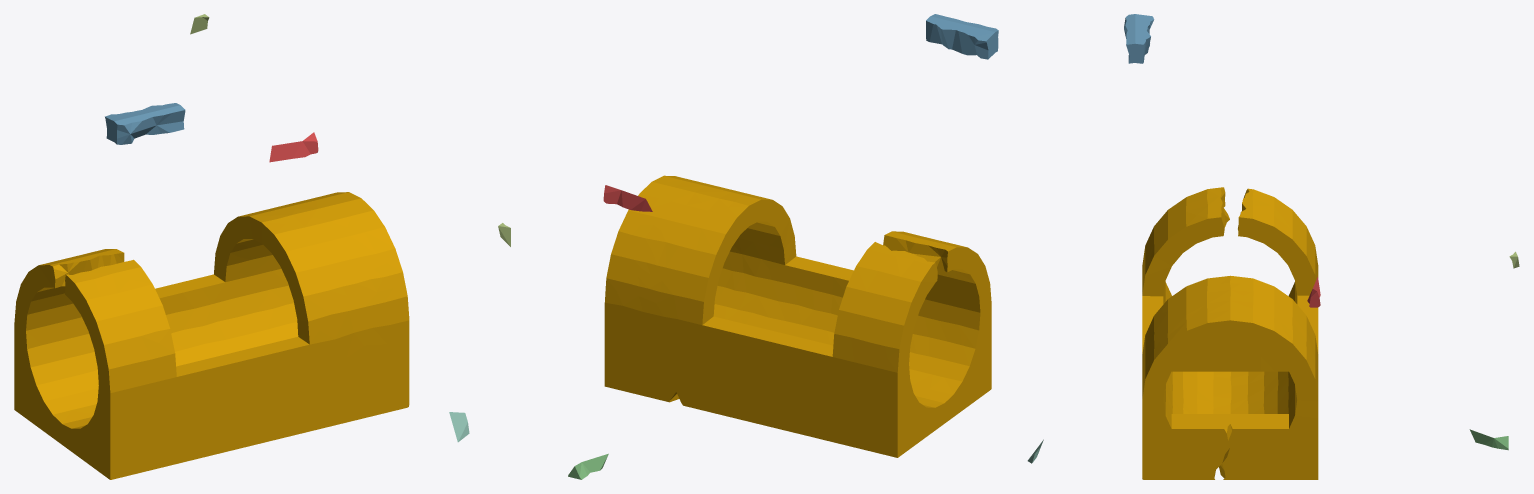
Rendered from fractured_9_6pcs_transformed.glb.
The picture shows the model from 3 angles, left to right: view 1: azimuth 30°, elevation 25°; view 2: azimuth 150°, elevation 25°; view 3: azimuth 270°, elevation 25°; orthographic projection. The views are drawn at different scales.
Parts seen in each view (by area): view 1: piece_0.obj, piece_2.obj, piece_1.obj; view 2: piece_0.obj, piece_2.obj, piece_1.obj, piece_3.obj; view 3: piece_0.obj, piece_2.obj.
Part boxes in pixels (x1,y1,x2,y2): piece_0.obj: (14, 192, 409, 479); piece_2.obj: (105, 103, 185, 144); piece_1.obj: (269, 132, 318, 162); piece_0.obj: (604, 175, 991, 457); piece_2.obj: (926, 14, 998, 59); piece_1.obj: (603, 185, 652, 211); piece_3.obj: (568, 453, 608, 479); piece_0.obj: (1142, 187, 1318, 479); piece_2.obj: (1124, 14, 1154, 63).
Bounding box in the file's own units: 1 × 1.16 × 1.55.
